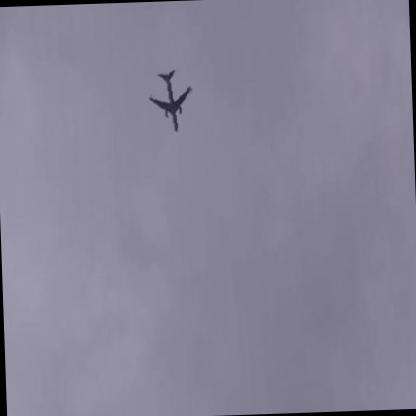plane: (147, 66, 199, 140)
